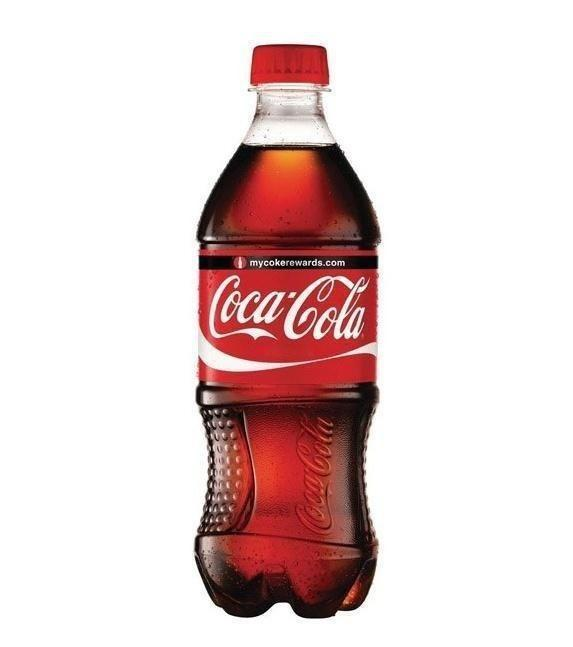bottle-plastic: (189, 37, 385, 620)
